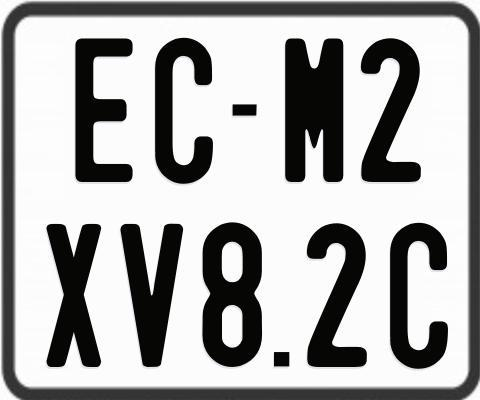2: (307, 223, 372, 372), (360, 38, 422, 185)
8: (201, 221, 267, 370)
C: (154, 35, 215, 183), (387, 222, 446, 374)
E: (73, 38, 137, 183)
M: (285, 35, 347, 180)
V: (117, 223, 183, 369)
X: (44, 223, 104, 366)
